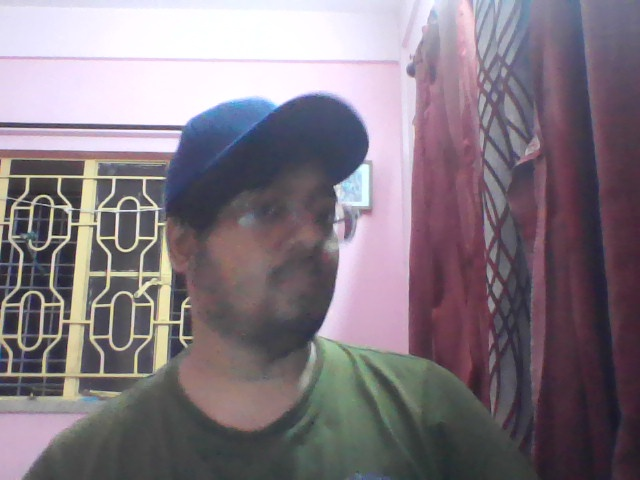Helmet: (154, 72, 380, 203)
